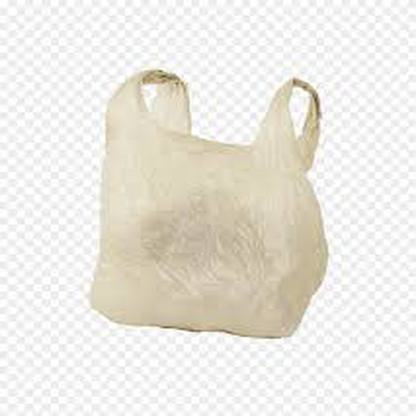plastic bag: (87, 68, 327, 339)
